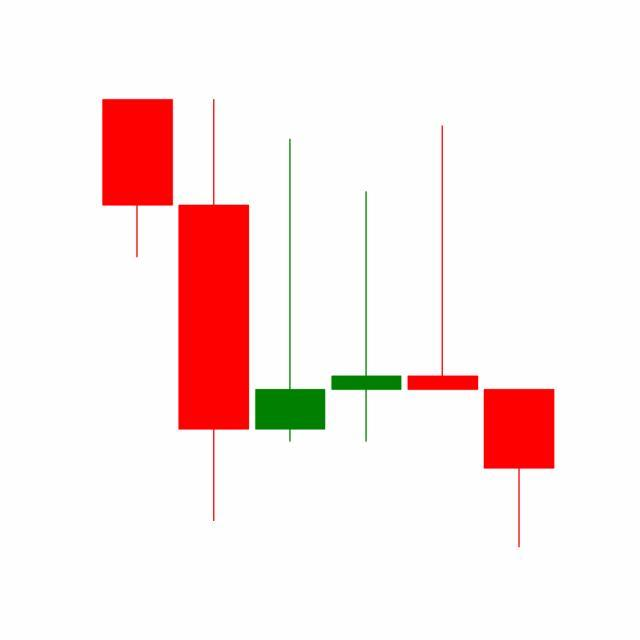Gravestone Doji: (404, 124, 482, 394)
